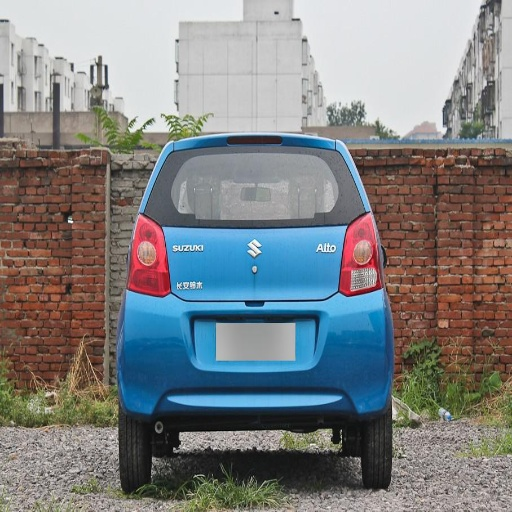back_bumper: (120, 291, 399, 428)
trunk: (163, 220, 370, 365)
